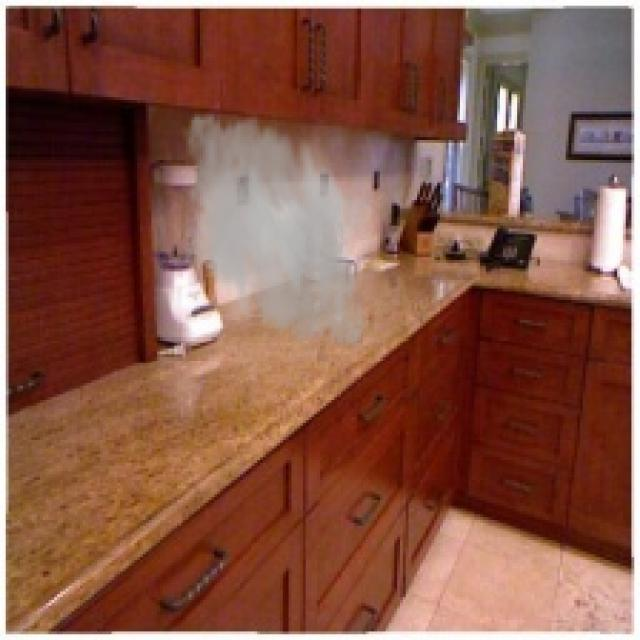Smoke: (166, 102, 380, 358)
